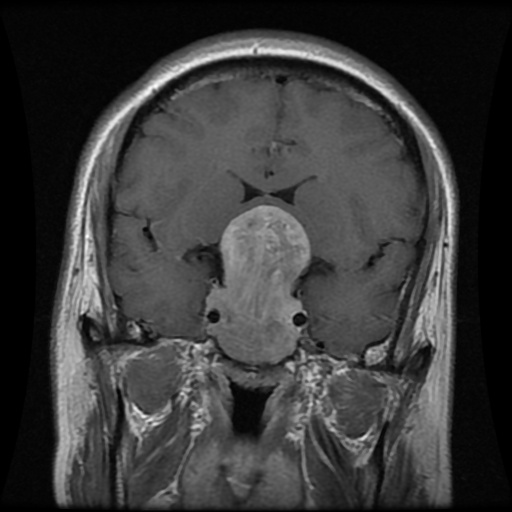pituitary: (211, 204, 310, 363)
